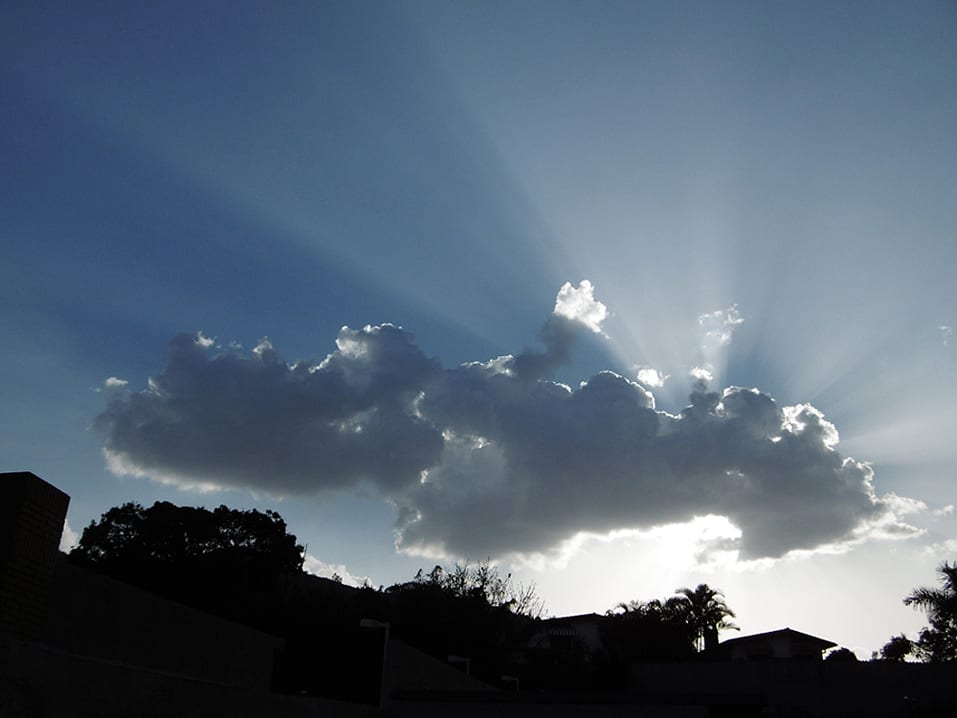Cumulus: (81, 246, 935, 568)
